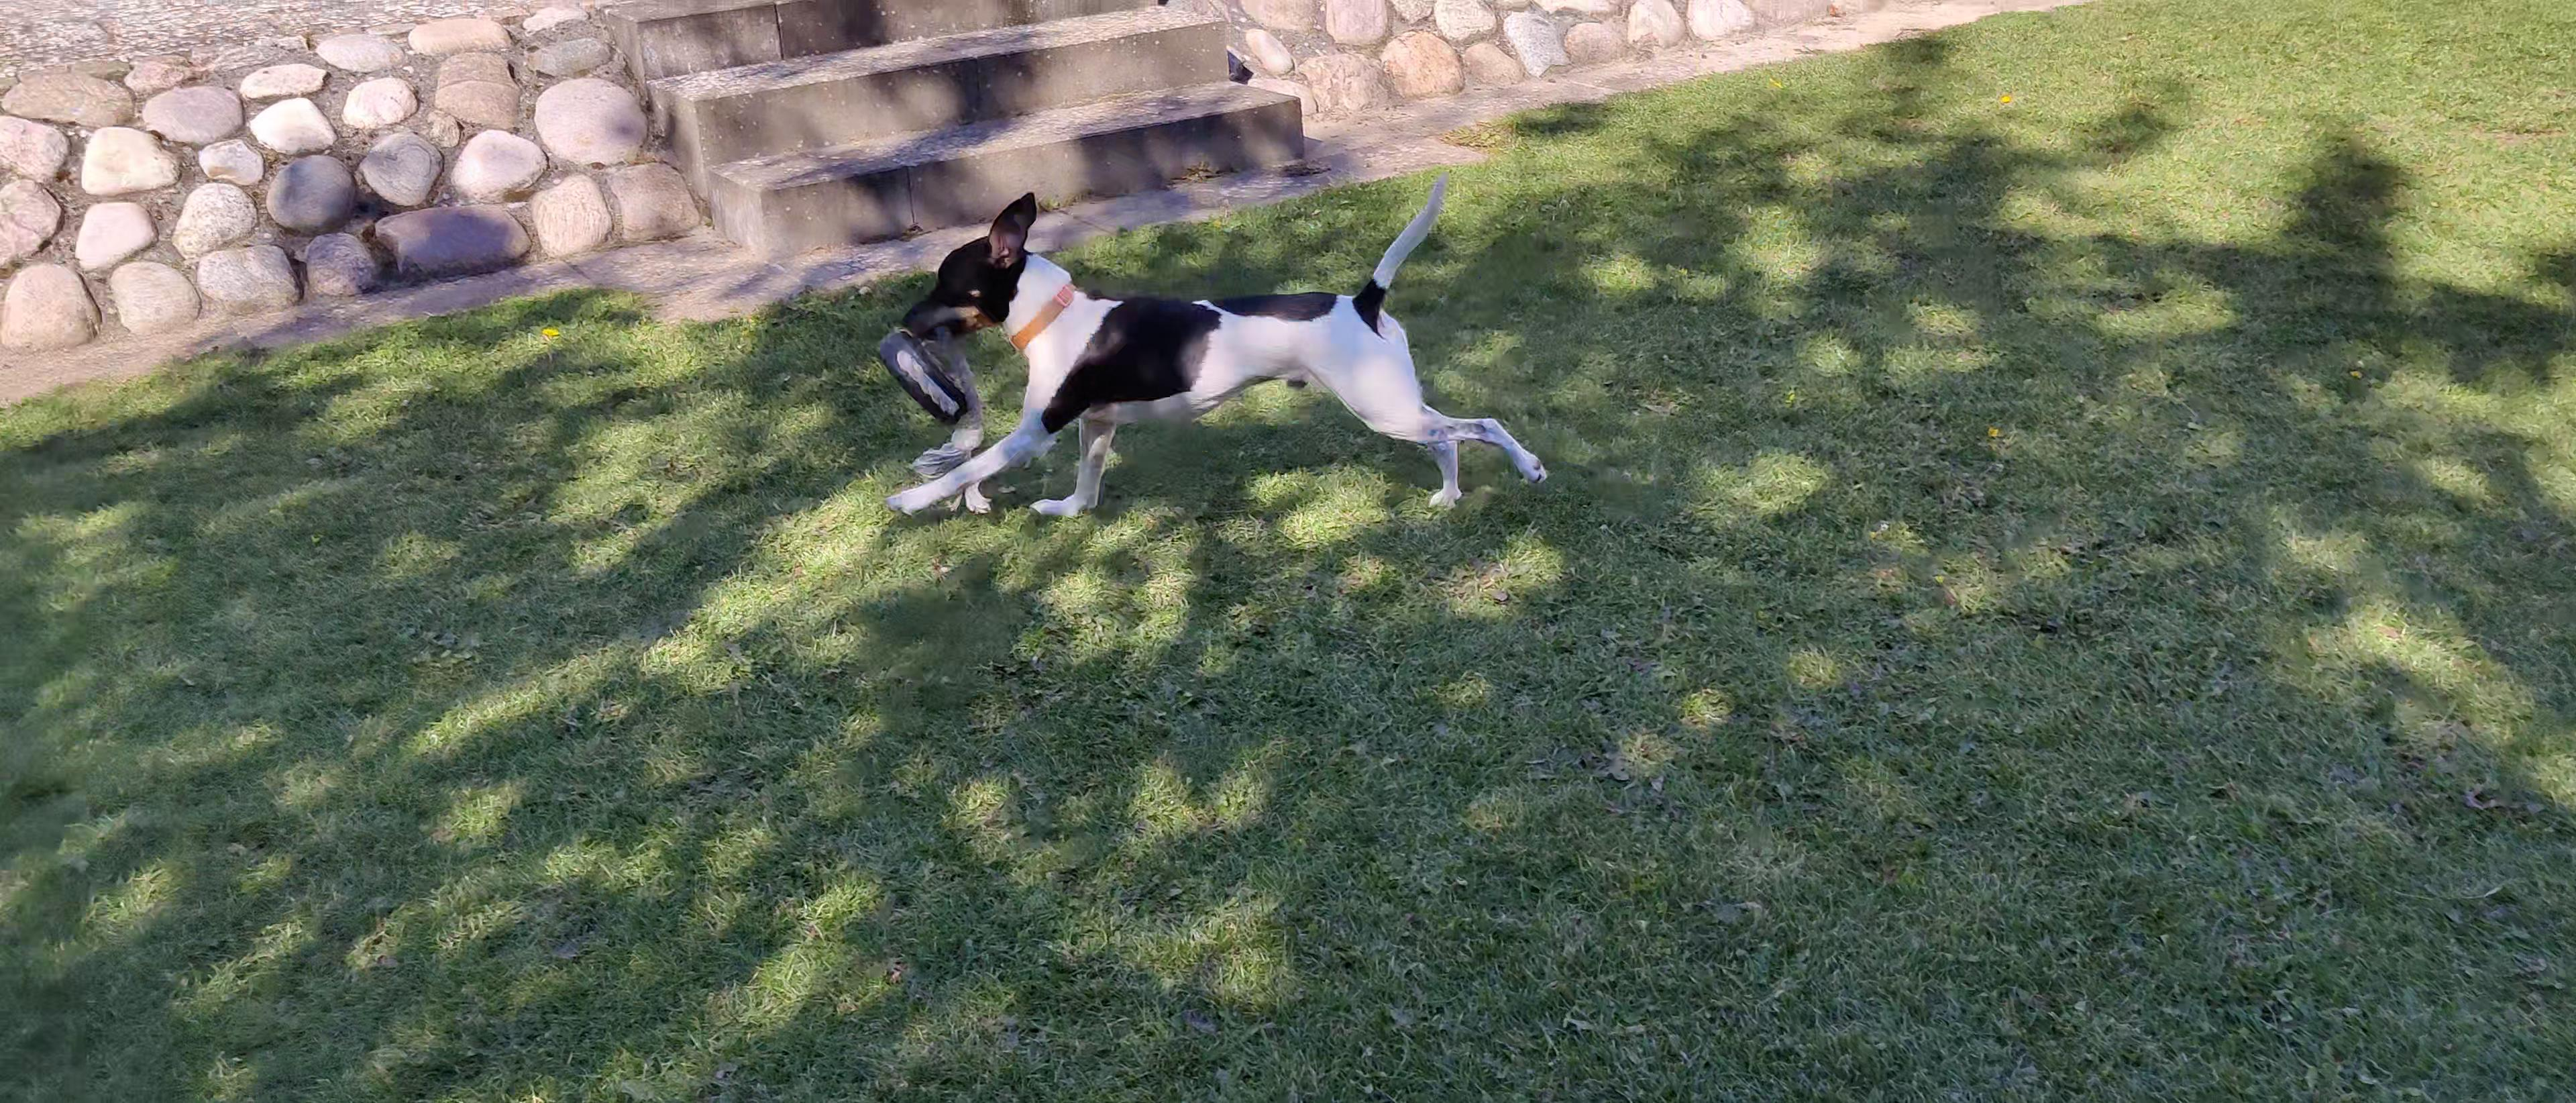Dog: (864, 158, 1561, 544)
